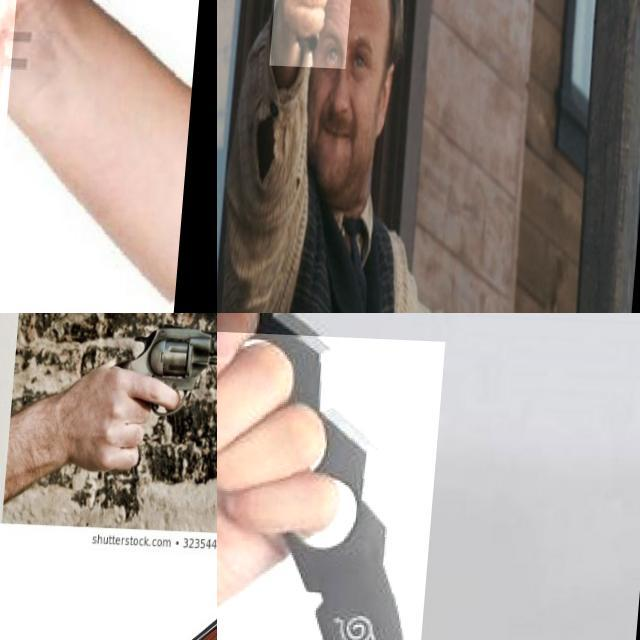-: (217, 327, 447, 640), (0, 0, 189, 313)
gun-knife-thesis - v11 Yolov5 augmented: (16, 555, 217, 640), (275, 0, 371, 161), (106, 313, 217, 447), (0, 313, 57, 465)
